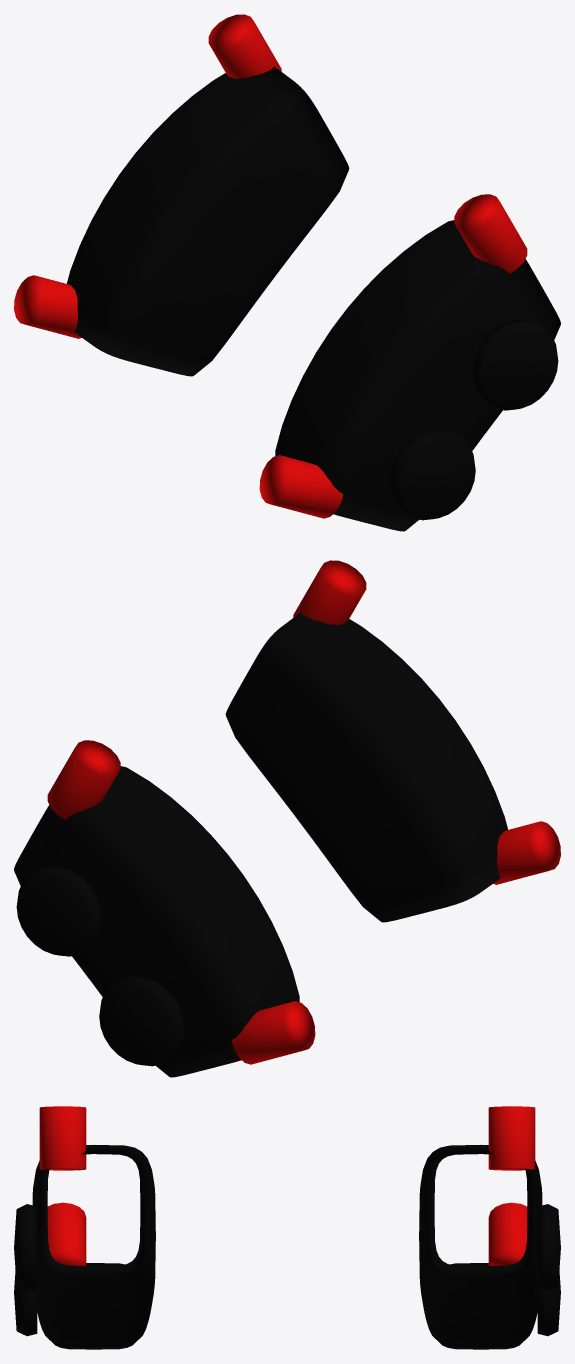
Rendered from front_calipers.glb.
3 views of the same model, one above another, from view 1: azimuth 30°, elevation 25°; view 2: azimuth 150°, elevation 25°; view 3: azimuth 270°, elevation 25° (orthographic). The views are drawn at different scales.
Visible parts, largest first — view 1: front_calipers; view 2: front_calipers; view 3: front_calipers.
Part boxes in pixels (x1,y1,x2,y2): front_calipers: (14, 14, 560, 531); front_calipers: (14, 560, 560, 1077); front_calipers: (14, 1106, 560, 1349).
Bounding box in the file's own units: 0.1199 × 0.1213 × 0.212.
